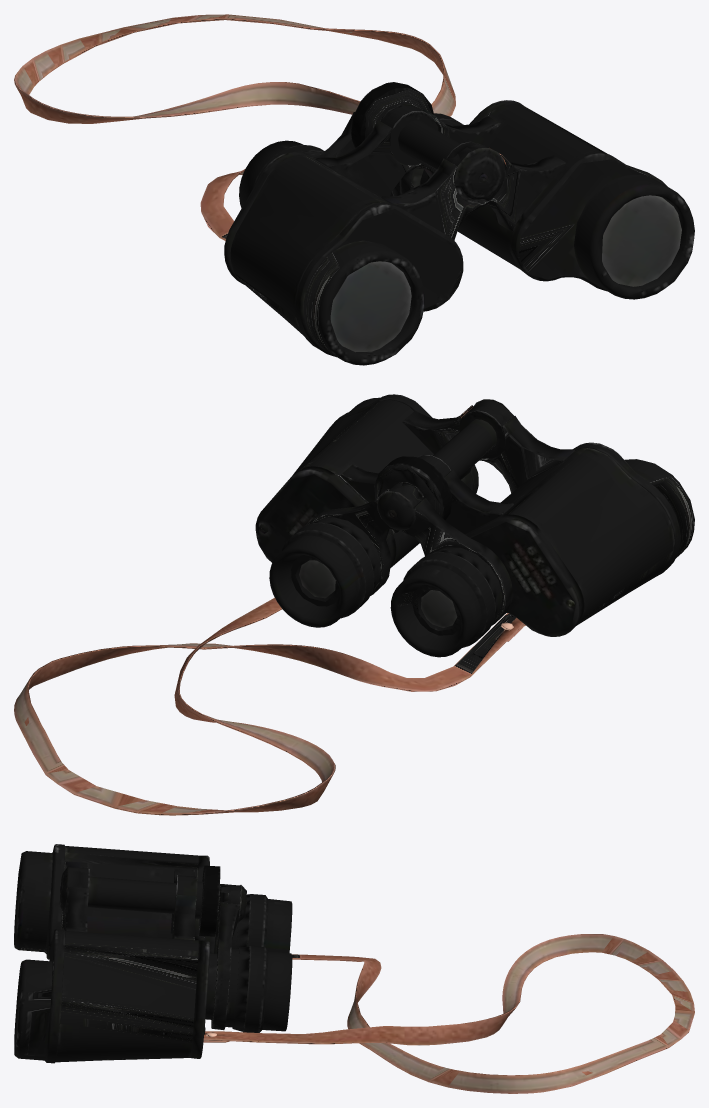
The model's file is binoculars.glb.
The picture shows the model from 3 angles, top to bottom: view 1: azimuth 30°, elevation 25°; view 2: azimuth 150°, elevation 25°; view 3: azimuth 270°, elevation 25°; orthographic projection. The views are drawn at different scales.
Parts seen in each view (by area): view 1: binoculars_left, binoculars_strap; view 2: binoculars_left, binoculars_strap; view 3: binoculars_left, binoculars_strap.
Boxes of the visible parts, box(x1,y1,x2,y2) form: binoculars_left: box(224, 82, 694, 365); binoculars_strap: box(14, 14, 455, 240); binoculars_left: box(255, 394, 694, 657); binoculars_strap: box(14, 597, 525, 815); binoculars_left: box(14, 844, 292, 1063); binoculars_strap: box(203, 934, 694, 1093).
Size of the model in its own units: 0.1669 by 0.0663 by 0.2879.
2 materials, 2 textured.
